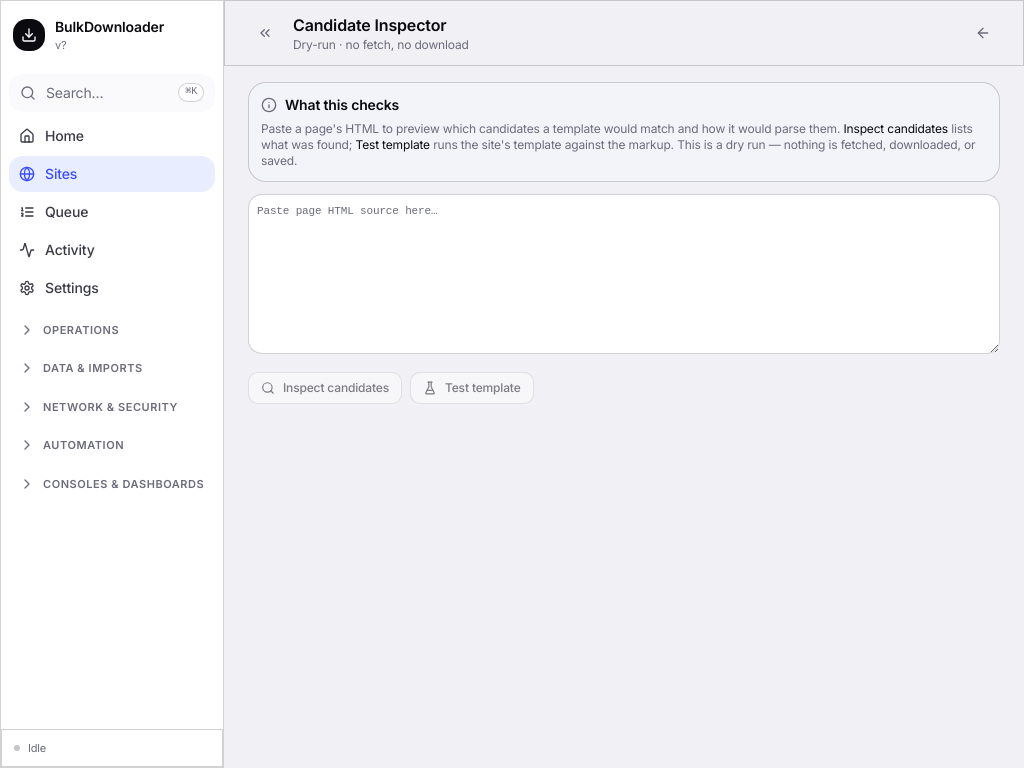
Scenario: DryRunInspector F010 › matched template: the green check stays
Type "<video src='x.mp4'>Direct Video</video>" into the text box with placeholder "Paste page HTML source here…" at (624, 274), box [248,194,1000,354]
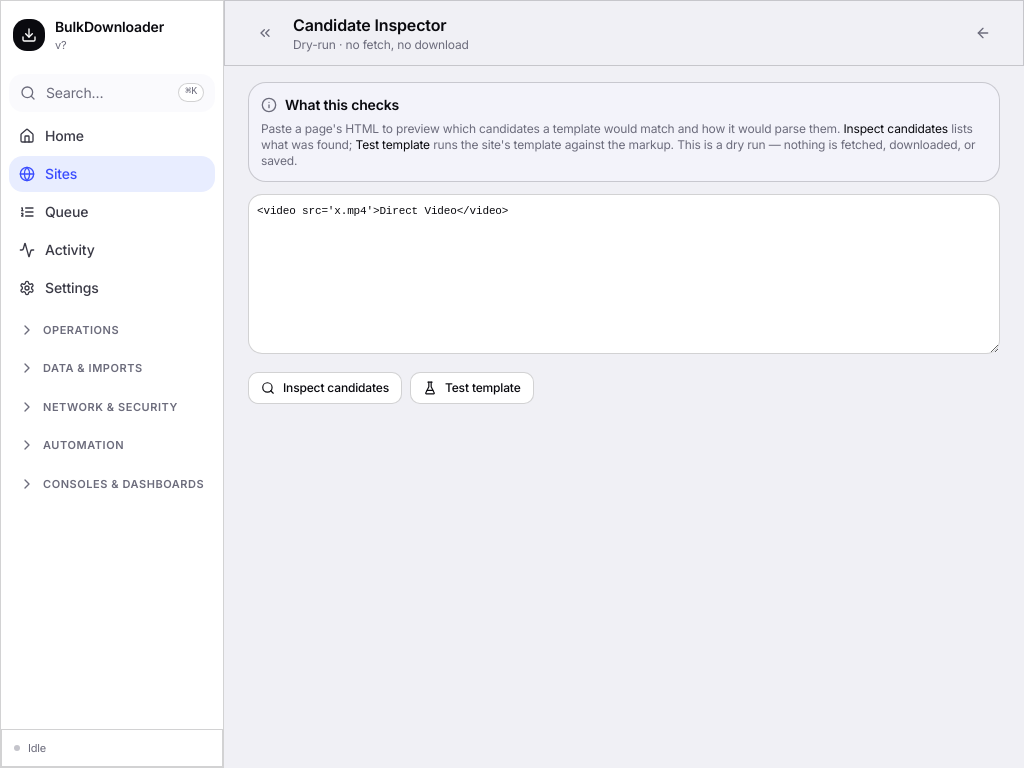
Click the button "Test template" at (472, 388), box [410,372,534,404]
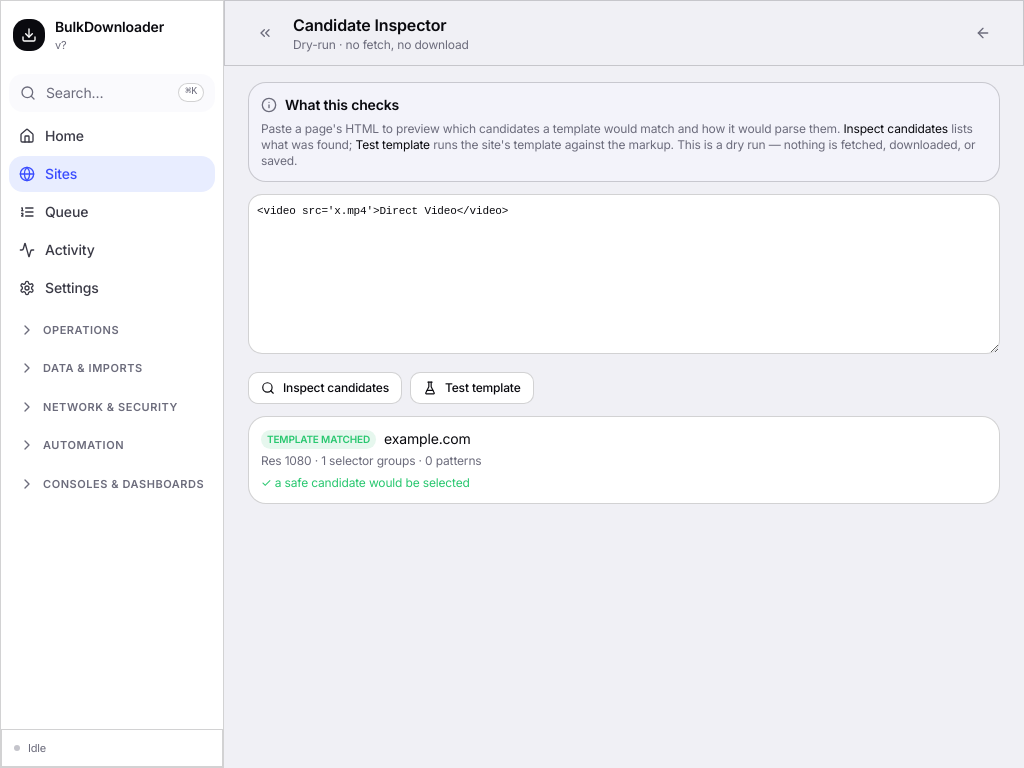
expect the text "template matched" is shown: met, box [261,430,376,448]
